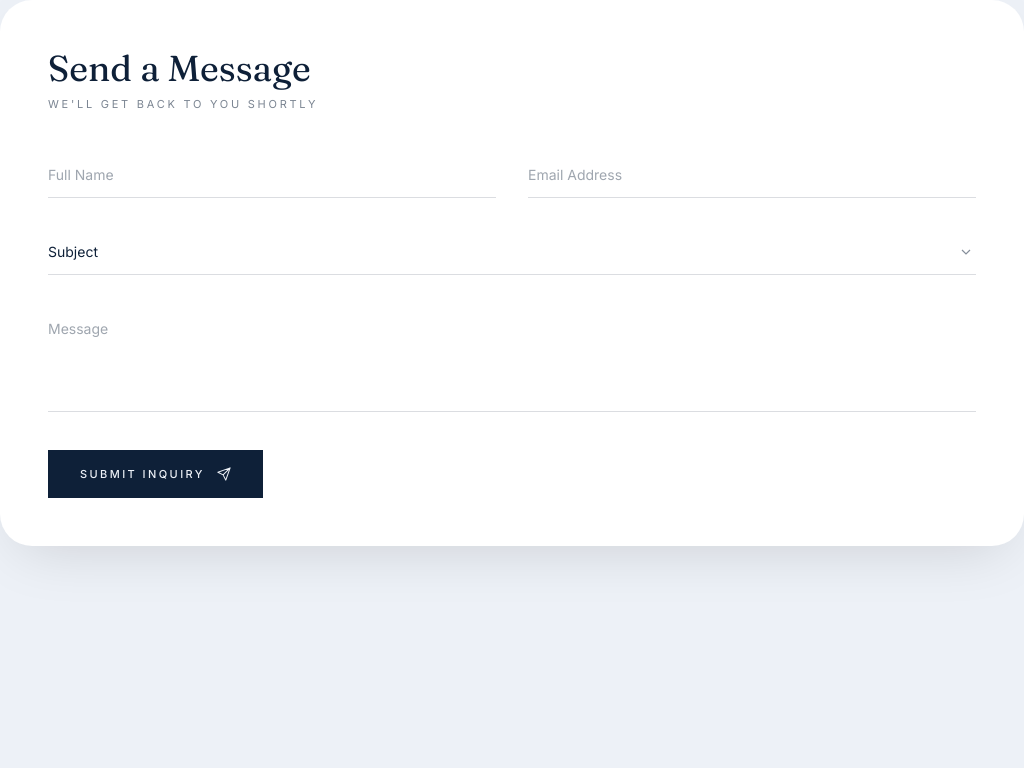
ContactForm › on a 500 shows the server's error in an alert and re-enables the button
The width and height of the screenshot is (1024, 768).
Type "Ada Lovelace" into the field labelled "Full Name" at (272, 175), box [48,152,496,198]
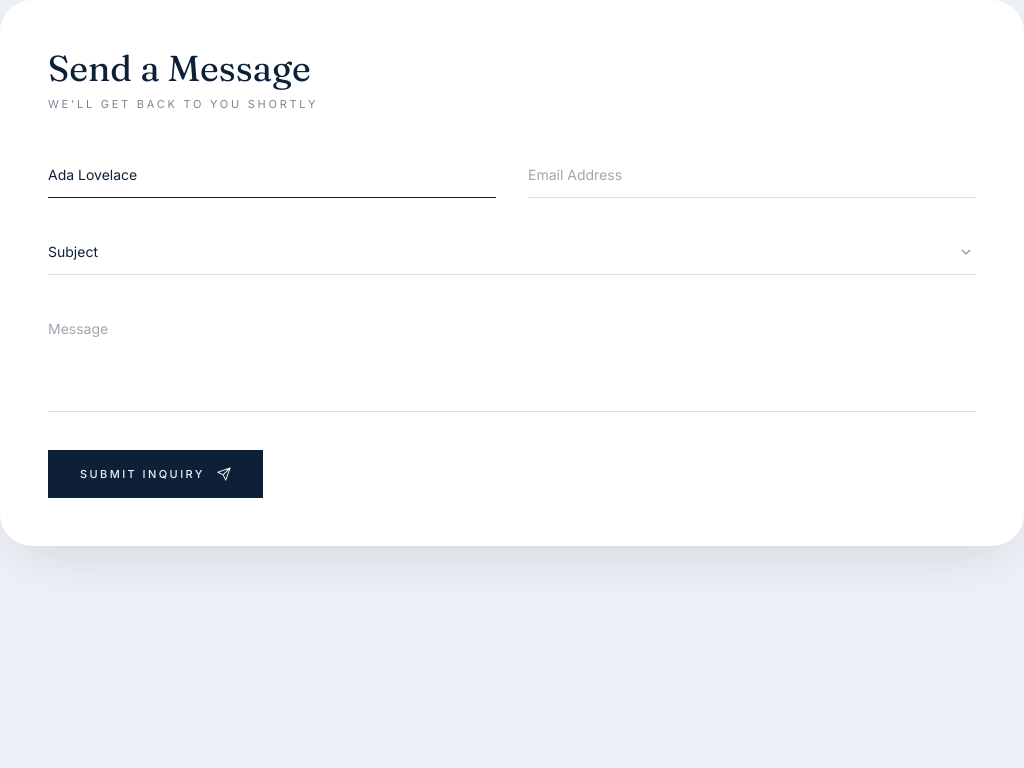
Type "ada@example.com" into the field labelled "Email Address" at (752, 175), box [528,152,976,198]
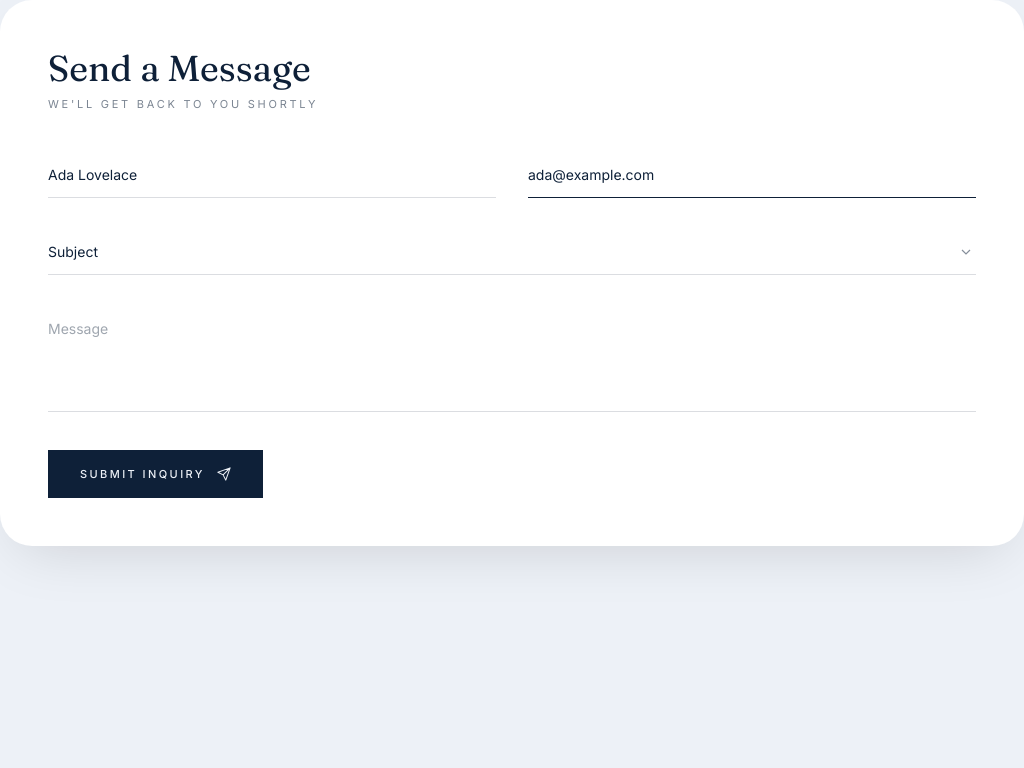
Select "Speaking Request" in the dropdown named "Subject" at (512, 252), box [48,230,976,274]
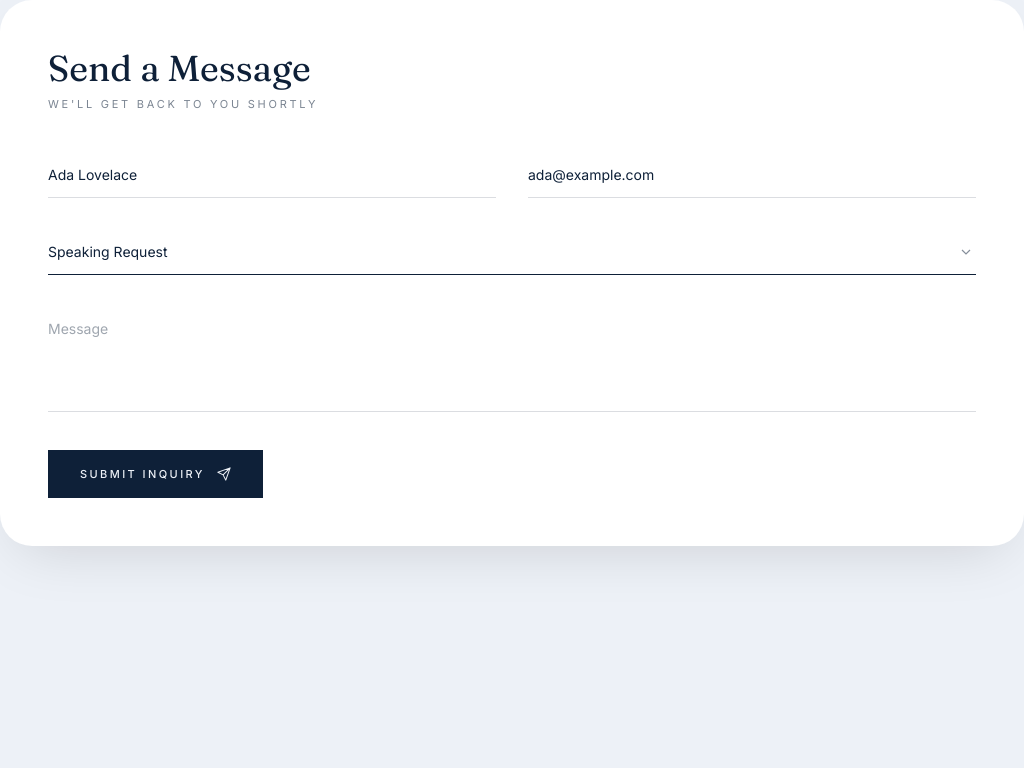
Type "Hello there" into the text box labelled "Message" at (512, 359), box [48,306,976,412]
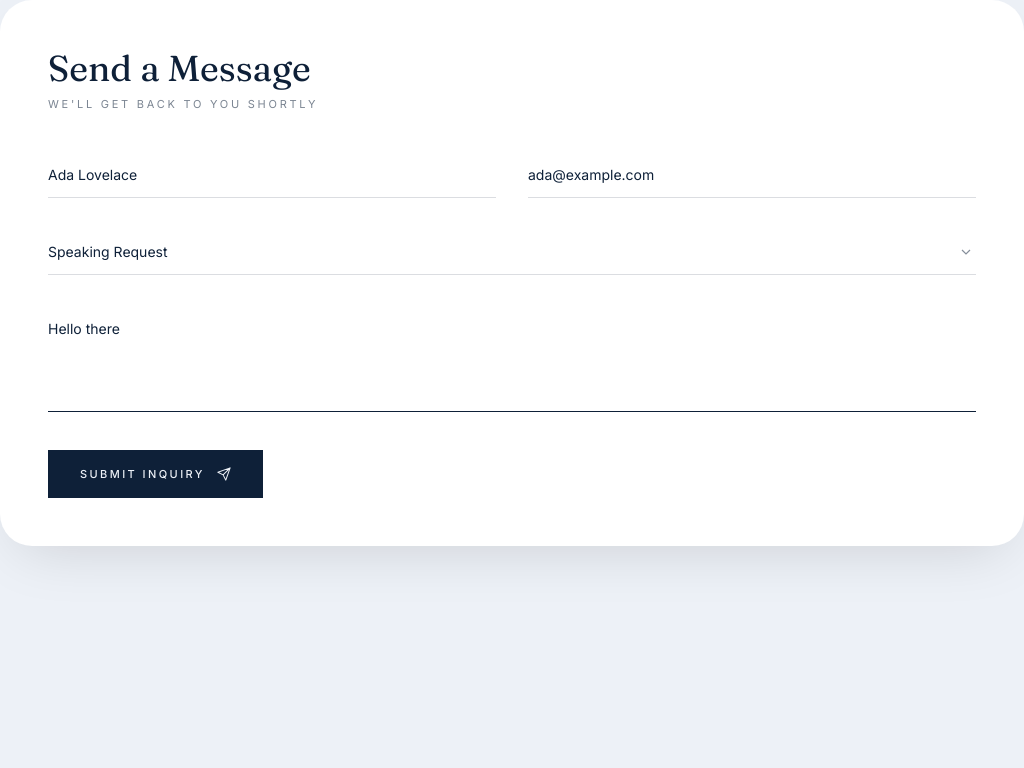
Click the button "Submit Inquiry" at (155, 474), box [48,450,263,498]
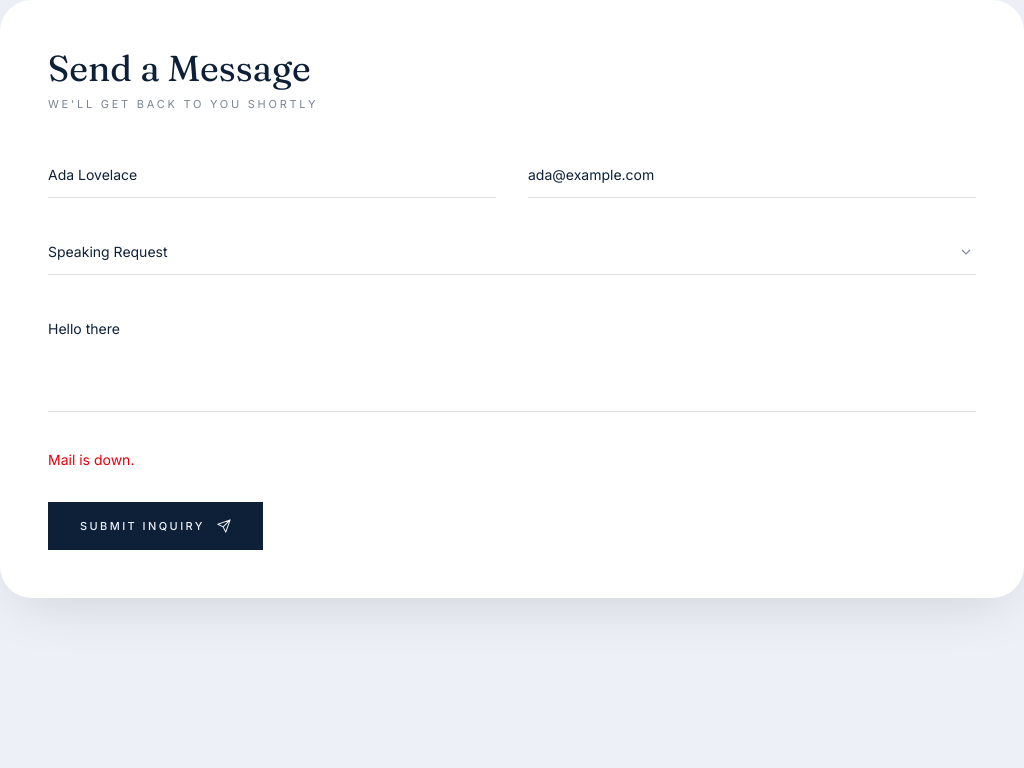
Expected: the button "Submit Inquiry" is enabled, [48,502,263,550]
Expected: the message reads "Mail is down.", [48,450,134,468]
